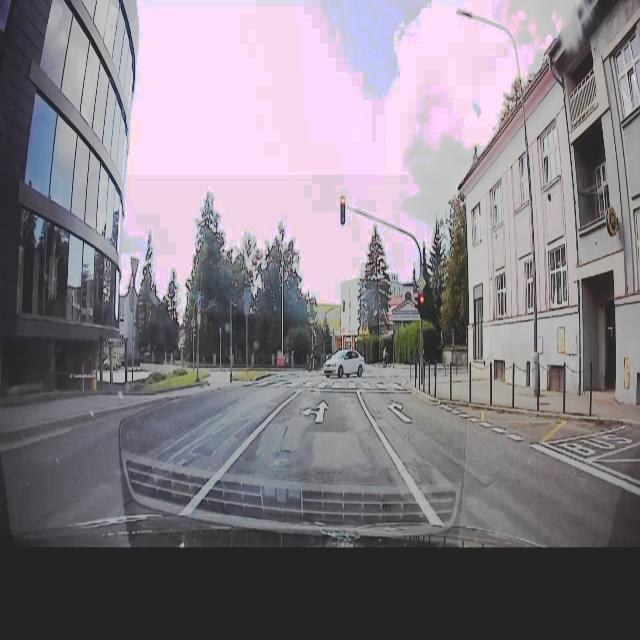Priority road: (417, 274, 426, 290)
